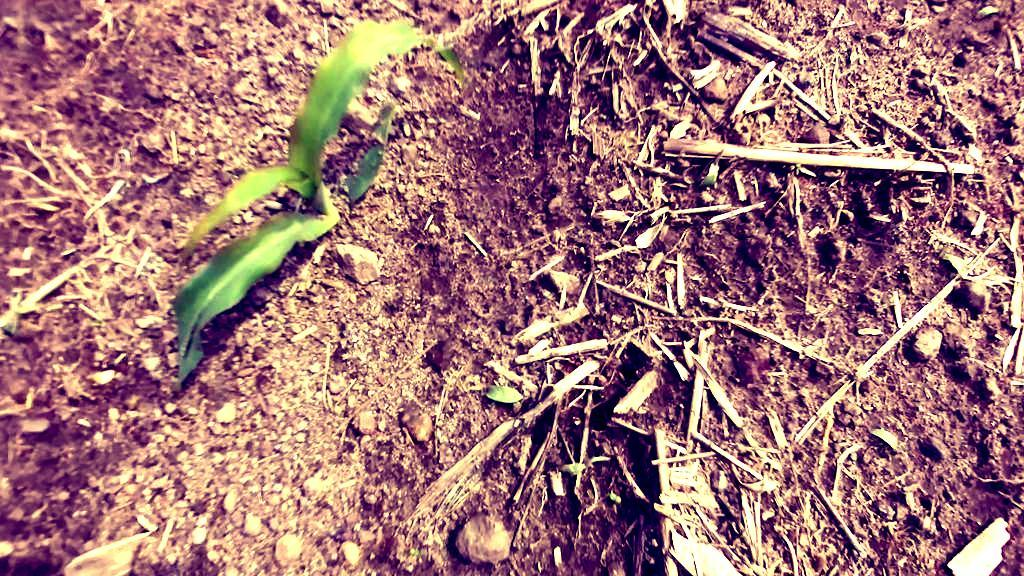BroWeed: (467, 372, 525, 412), (0, 291, 38, 336), (697, 146, 730, 194), (558, 452, 612, 480), (866, 420, 906, 453), (935, 246, 970, 276), (24, 200, 62, 214), (972, 3, 1001, 21), (126, 393, 141, 411), (607, 491, 623, 505), (788, 164, 802, 176), (408, 547, 420, 558), (1004, 155, 1015, 164), (598, 112, 608, 120), (92, 320, 105, 326)
